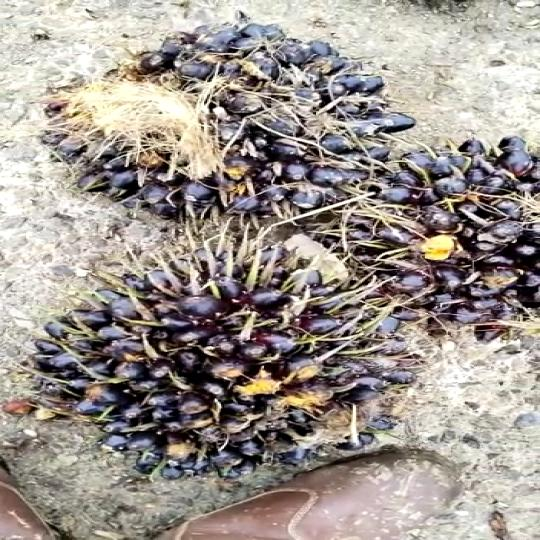mentah: (20, 239, 461, 513), (40, 16, 434, 234), (324, 116, 540, 346)
